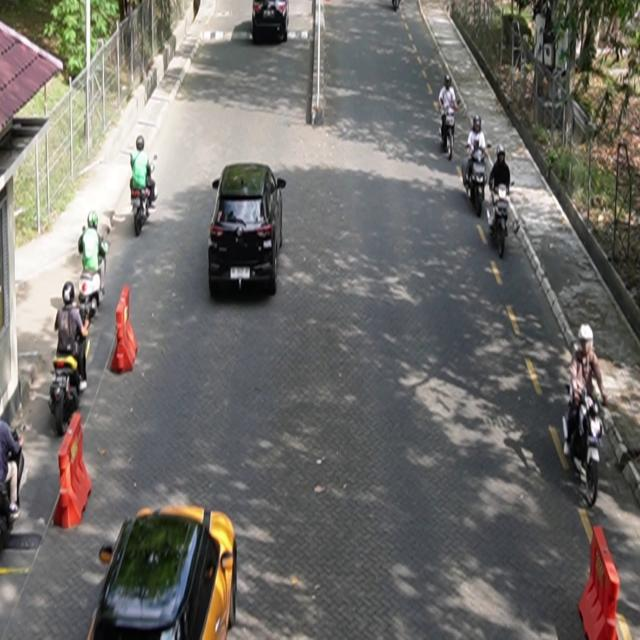car: (88, 506, 238, 640), (209, 162, 287, 297), (252, 1, 290, 44)
